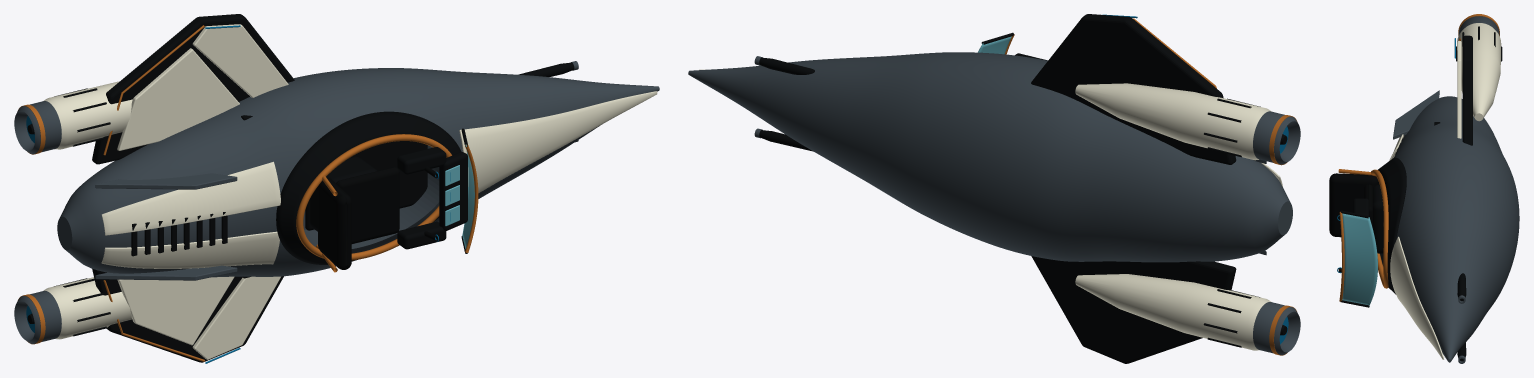
File: SwiftCandidate.obj
3 views of the same model, side by side, from view 1: azimuth 30°, elevation 25°; view 2: azimuth 150°, elevation 25°; view 3: azimuth 270°, elevation 25° (orthographic). The views are drawn at different scales.
Parts seen in each view (by area): view 1: SM_SwiftCandidate; view 2: SM_SwiftCandidate; view 3: SM_SwiftCandidate.
Boxes of the visible parts, left/top/right/bottom form: SM_SwiftCandidate: left=14, top=14, right=659, bottom=363; SM_SwiftCandidate: left=688, top=14, right=1300, bottom=363; SM_SwiftCandidate: left=1329, top=14, right=1519, bottom=363.
Size of the model in its own units: 483 by 256 by 155.
